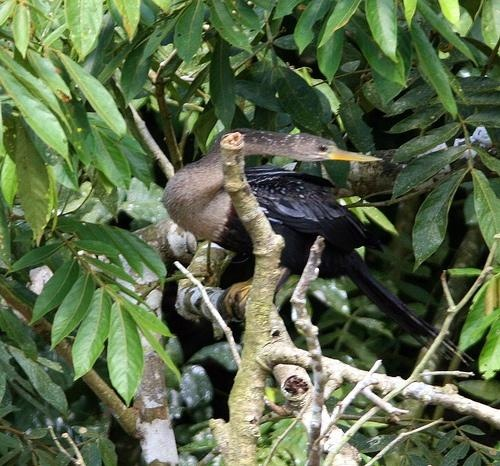bird: (162, 129, 475, 367)
